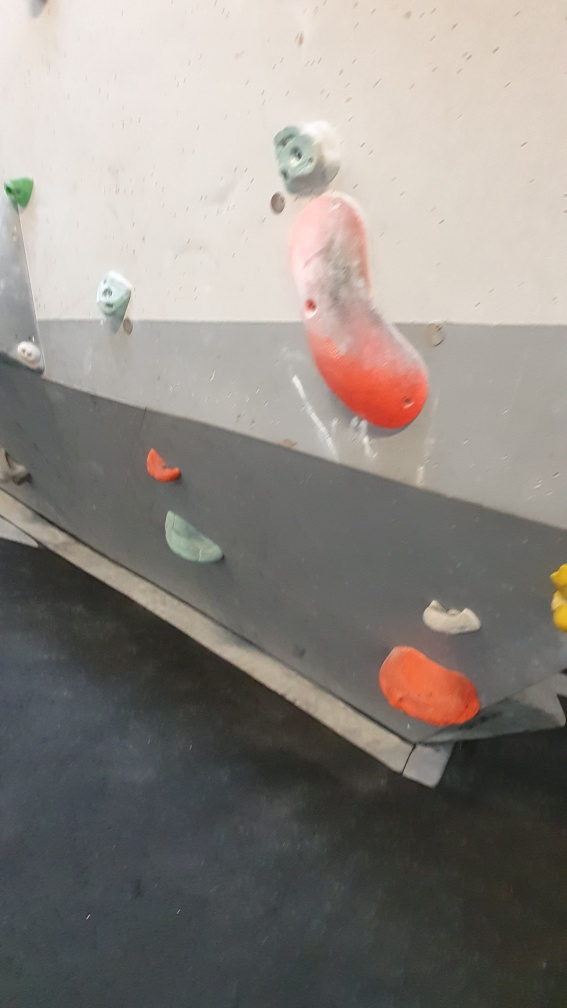Pinch: (282, 194, 432, 432)
